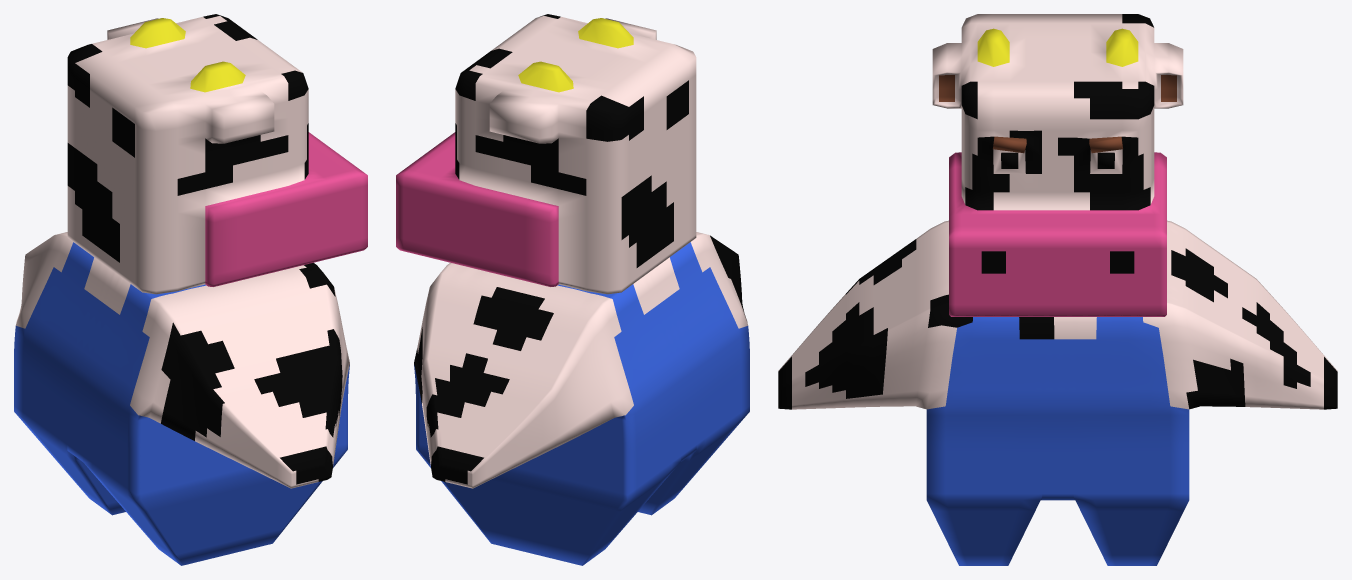
Rendered from cow_bigger.glb.
The picture shows the model from 3 angles, left to right: view 1: azimuth 30°, elevation 25°; view 2: azimuth 150°, elevation 25°; view 3: azimuth 270°, elevation 25°; orthographic projection. The views are drawn at different scales.
Parts seen in each view (by area): view 1: Cube; view 2: Cube; view 3: Cube.
Boxes of the visible parts, x1,y1,x2,y2 form: Cube: (14, 14, 367, 565); Cube: (396, 14, 749, 565); Cube: (778, 14, 1337, 565).
Size of the model in its own units: 0.8539 by 1.6 by 1.59.
